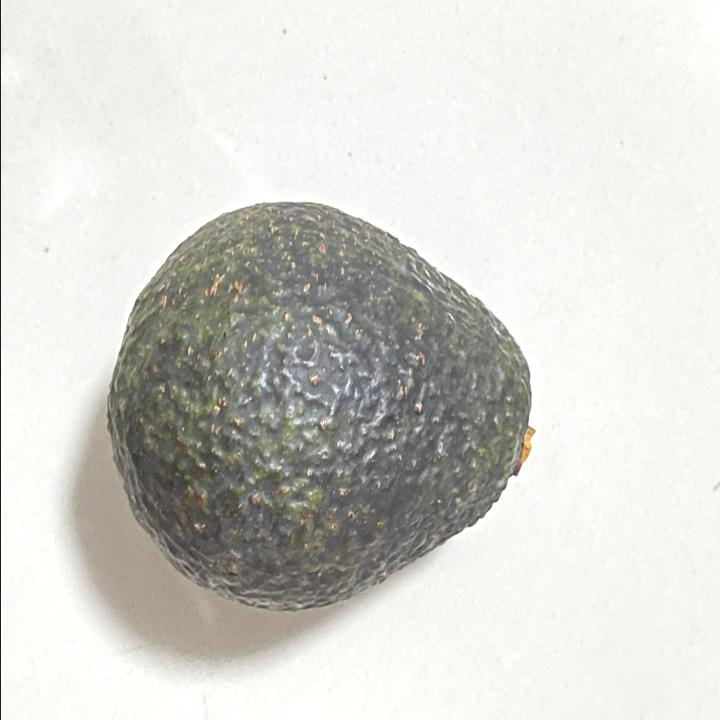Level1: (93, 183, 549, 620)
